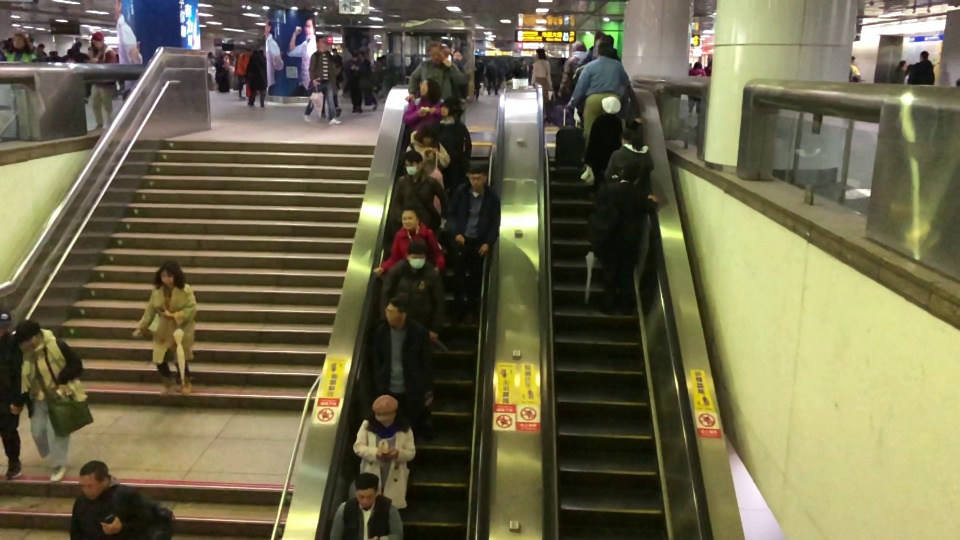person_head: (79, 460, 109, 499), (371, 393, 399, 426), (152, 259, 184, 287), (15, 323, 46, 349), (355, 473, 377, 507), (384, 295, 408, 325), (414, 122, 439, 146), (406, 242, 427, 269), (419, 76, 440, 101), (438, 96, 461, 118), (404, 149, 422, 175), (594, 41, 619, 59), (470, 164, 487, 190), (622, 128, 643, 149), (622, 160, 639, 185), (400, 210, 420, 231), (427, 42, 444, 64), (0, 311, 12, 333), (603, 97, 620, 112), (92, 31, 104, 48), (13, 33, 26, 48), (572, 38, 585, 53), (534, 49, 547, 62), (918, 49, 929, 64), (349, 50, 360, 61), (317, 36, 325, 50)
person_vbox: (16, 320, 86, 487), (130, 258, 203, 397), (382, 240, 442, 405), (595, 150, 657, 308), (363, 292, 429, 425), (72, 459, 175, 540), (565, 40, 636, 146), (353, 392, 416, 509), (453, 163, 495, 331), (373, 205, 446, 285), (327, 472, 404, 540), (392, 148, 448, 235), (407, 40, 469, 117), (0, 309, 23, 492), (586, 93, 627, 187), (304, 36, 342, 127), (404, 121, 451, 188), (605, 127, 654, 188), (432, 95, 473, 164), (86, 31, 114, 129), (557, 36, 587, 119), (403, 74, 444, 123), (531, 48, 553, 123), (346, 47, 364, 114), (248, 49, 265, 110), (688, 61, 704, 116), (6, 32, 35, 62), (916, 48, 937, 87), (234, 45, 249, 99), (850, 52, 862, 84), (893, 58, 907, 83), (704, 51, 715, 79), (903, 63, 915, 85)
